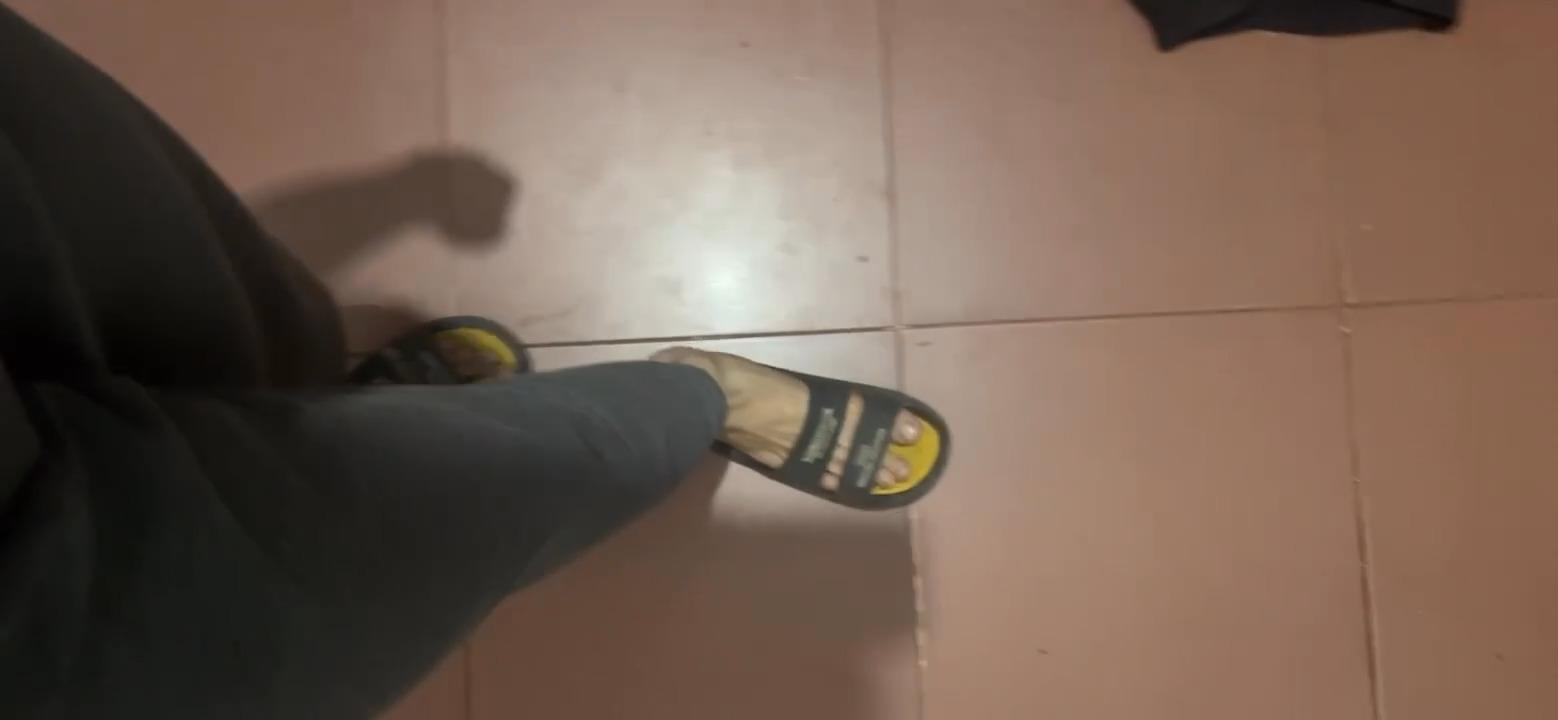no-boot: (647, 325, 949, 533)
